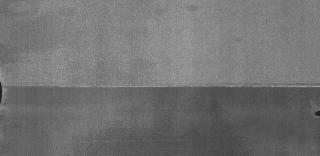punching hole: (312, 109, 320, 117)
welding line: (1, 84, 320, 94)
